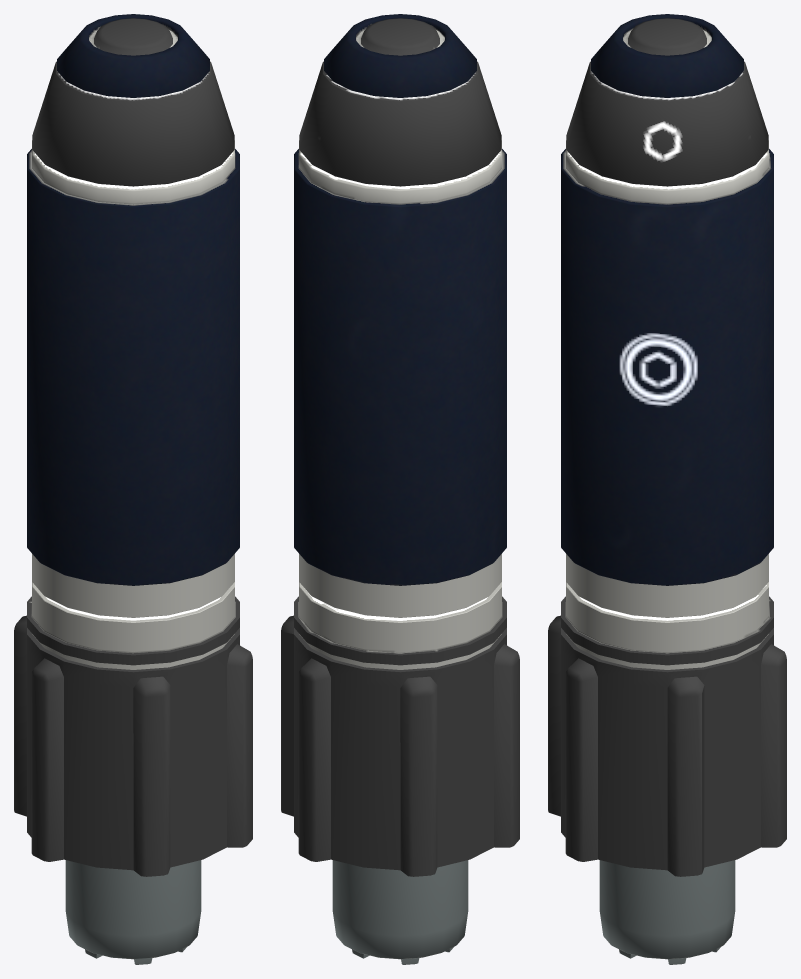
File: Torpedo original size.FBX
3 views of the same model, side by side, from view 1: azimuth 30°, elevation 25°; view 2: azimuth 150°, elevation 25°; view 3: azimuth 270°, elevation 25° (orthographic).
Parts seen in each view (by area): view 1: Torpedo; view 2: Torpedo; view 3: Torpedo.
Part boxes in pixels (<box>): Torpedo: <box>14,14,252,964</box>; Torpedo: <box>281,14,519,964</box>; Torpedo: <box>548,14,786,964</box>.
Bounding box in the file's own units: 49.23 × 200 × 47.59.
1 material, 1 textured.
